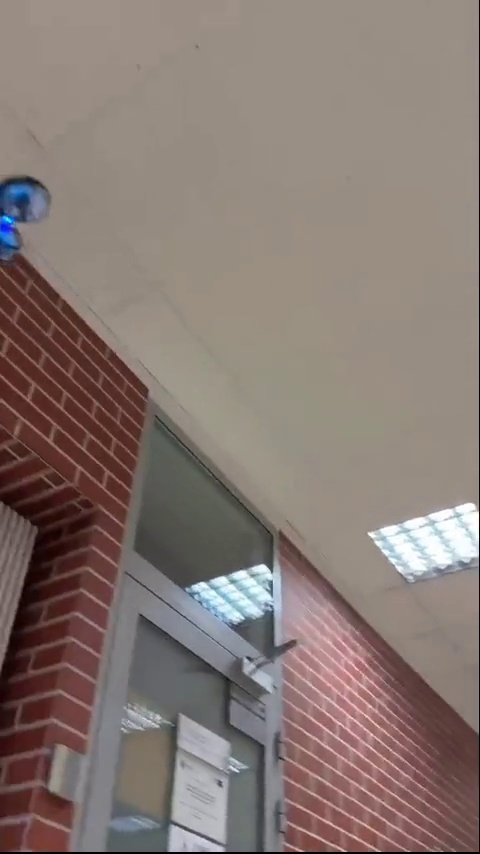drone: (0, 165, 53, 270)
